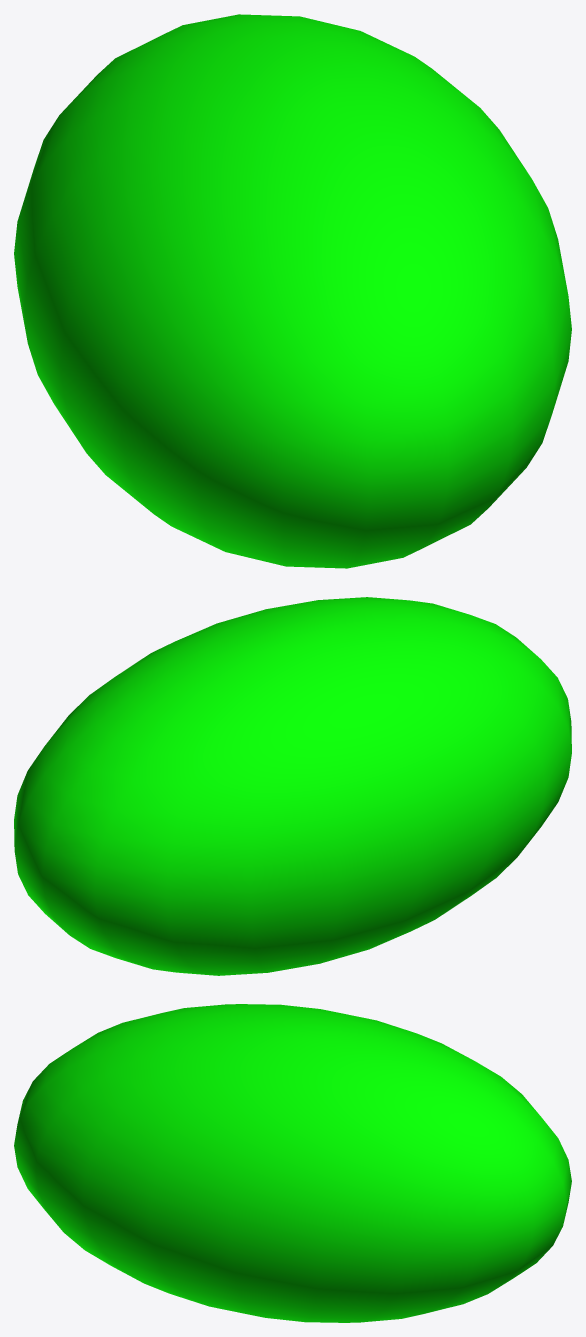
Rendered from enemy_leg.obj.
3 views of the same model, one above another, from view 1: azimuth 30°, elevation 25°; view 2: azimuth 150°, elevation 25°; view 3: azimuth 270°, elevation 25° (orthographic). The views are drawn at different scales.
Visible parts, largest first — view 1: pSphere1; view 2: pSphere1; view 3: pSphere1.
Part boxes in pixels (x1,y1,x2,y2): pSphere1: [14, 14, 571, 568]; pSphere1: [14, 597, 571, 975]; pSphere1: [14, 1004, 571, 1322].
Size of the model in its own units: 2.17 by 1.68 by 3.11.
1 material, 1 textured.
